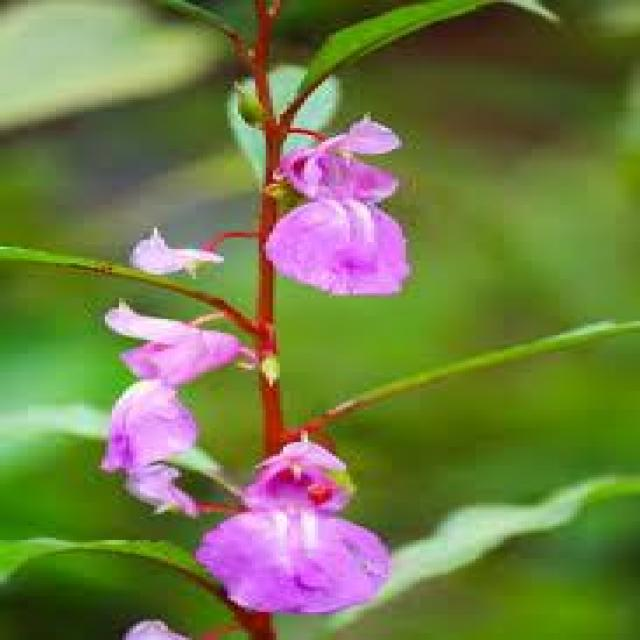organic waste: (243, 110, 453, 304), (178, 438, 402, 608), (80, 375, 217, 526), (82, 294, 268, 369)
